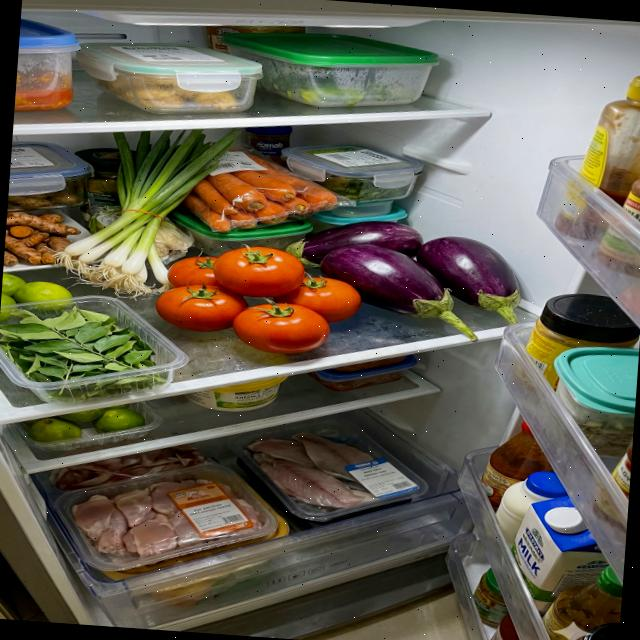carrot: (184, 144, 341, 240)
chicken: (67, 470, 266, 573)
curry_leaves: (0, 300, 173, 410)
eggplant: (278, 214, 526, 345)
lime: (19, 395, 148, 449), (0, 272, 74, 328)
spring_onion: (40, 115, 242, 306)
tomato: (153, 237, 364, 359)
turmeric: (3, 210, 82, 271)
